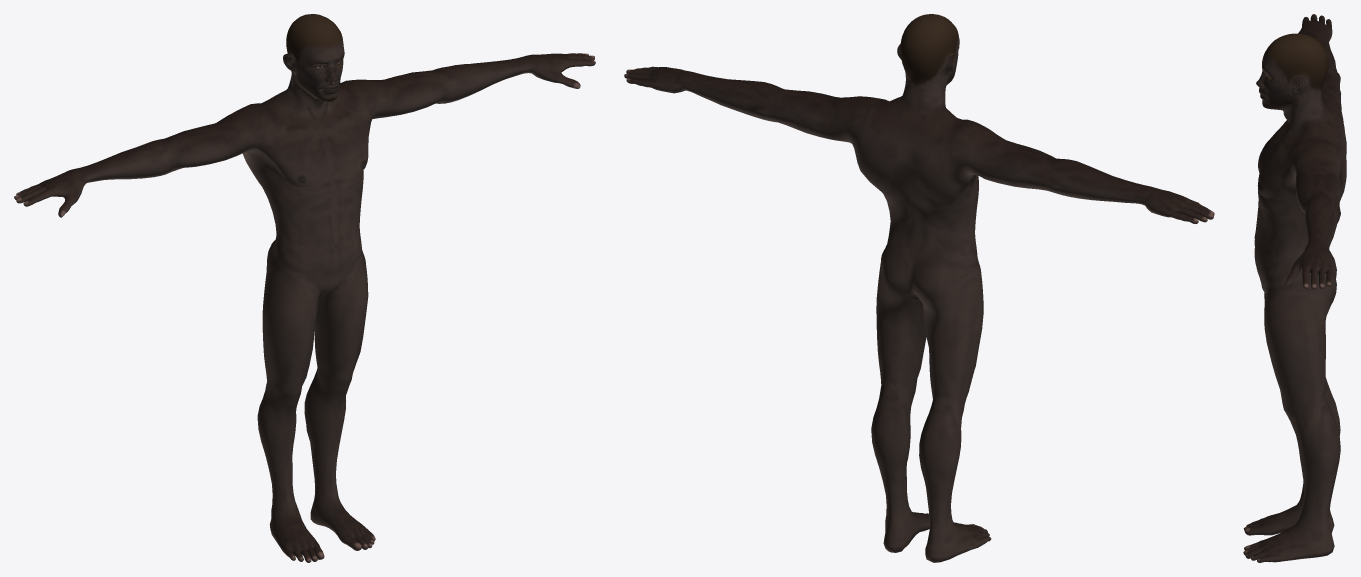
Rendered from negroid.obj.
3 renders of one model, left to right at view 1: azimuth 30°, elevation 25°; view 2: azimuth 150°, elevation 25°; view 3: azimuth 270°, elevation 25°, orthographic. The views are drawn at different scales.
Visible parts, largest first — view 1: Body; view 2: Body; view 3: Body.
Part boxes in pixels (box(x1,y1,x2,y2)): Body: box(14, 14, 595, 562); Body: box(624, 14, 1214, 562); Body: box(1243, 14, 1346, 562).
Bounding box in the file's own units: 209 × 180 × 33.14.
